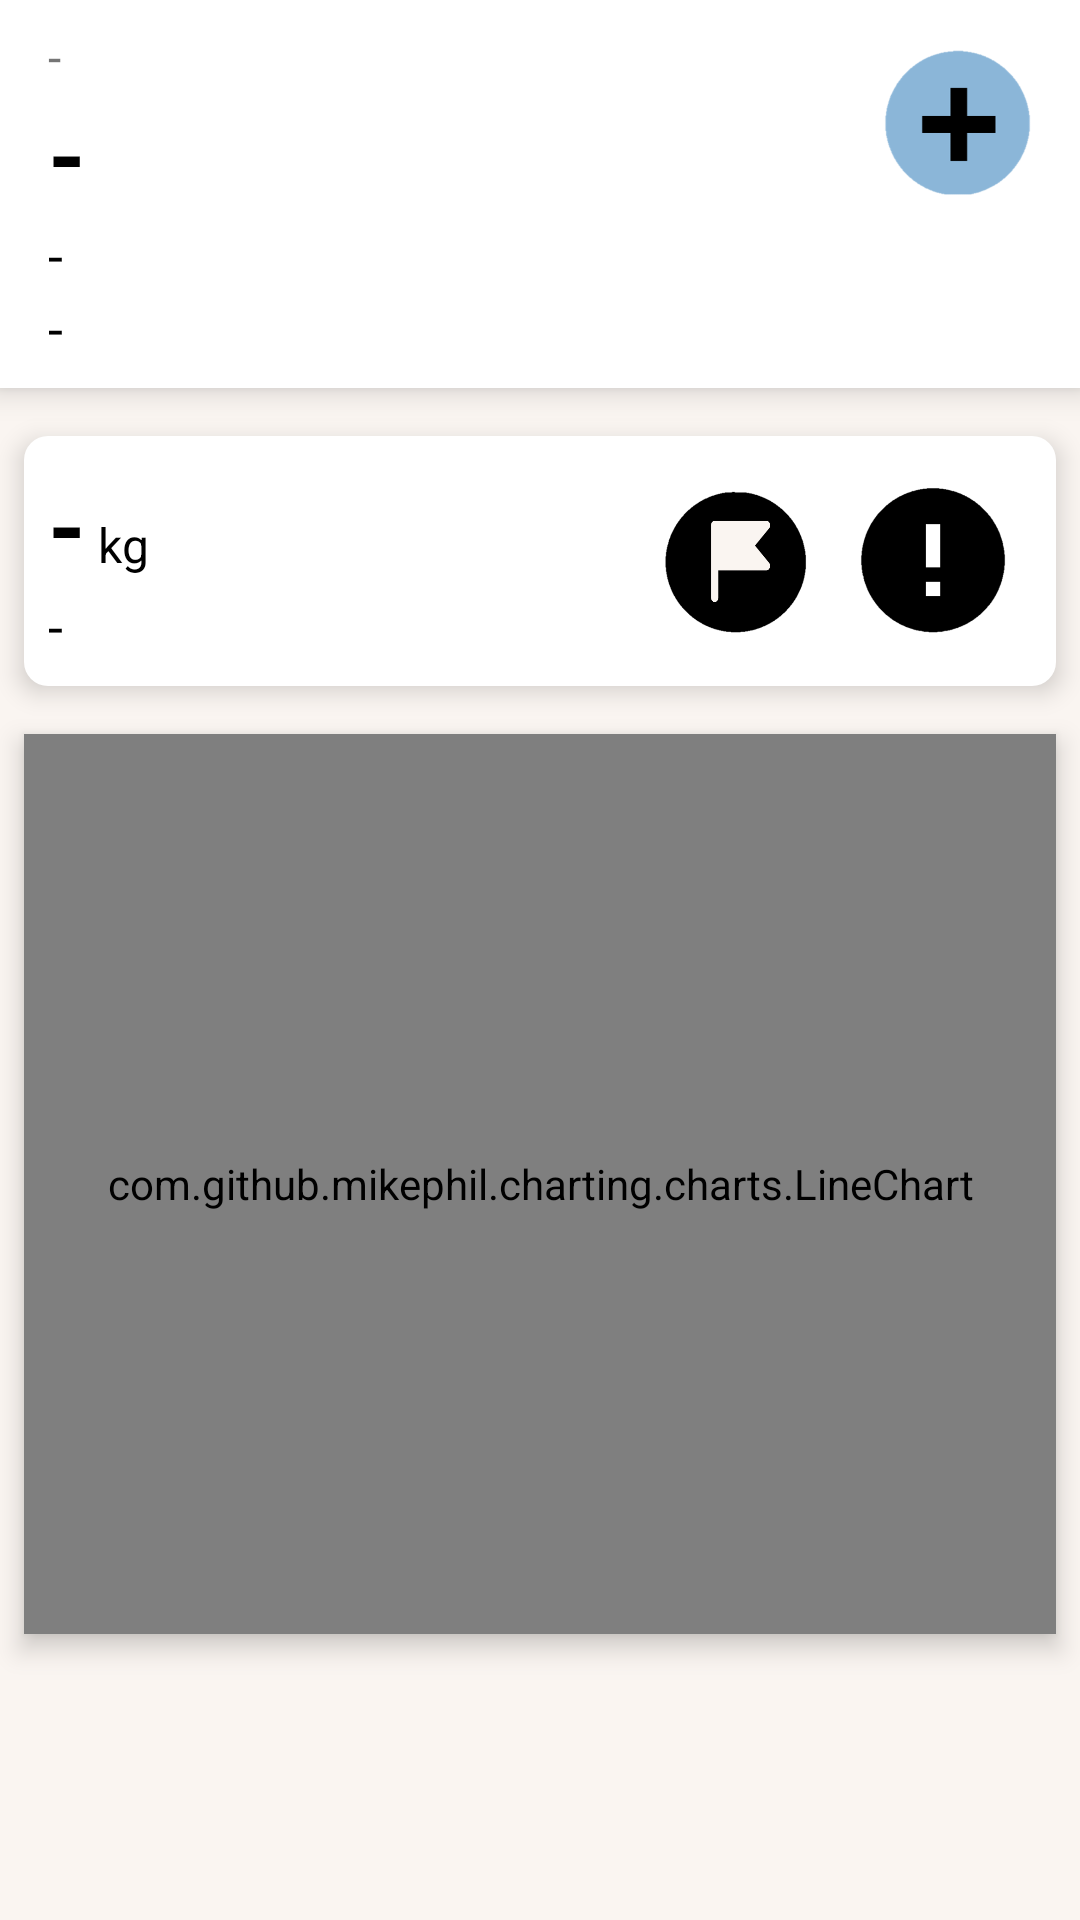

Named icons in this screenshot (1080 × 1920) and their bounding boxes, (x1, y1, x2, y2):
plus: (885, 51, 1030, 195)
